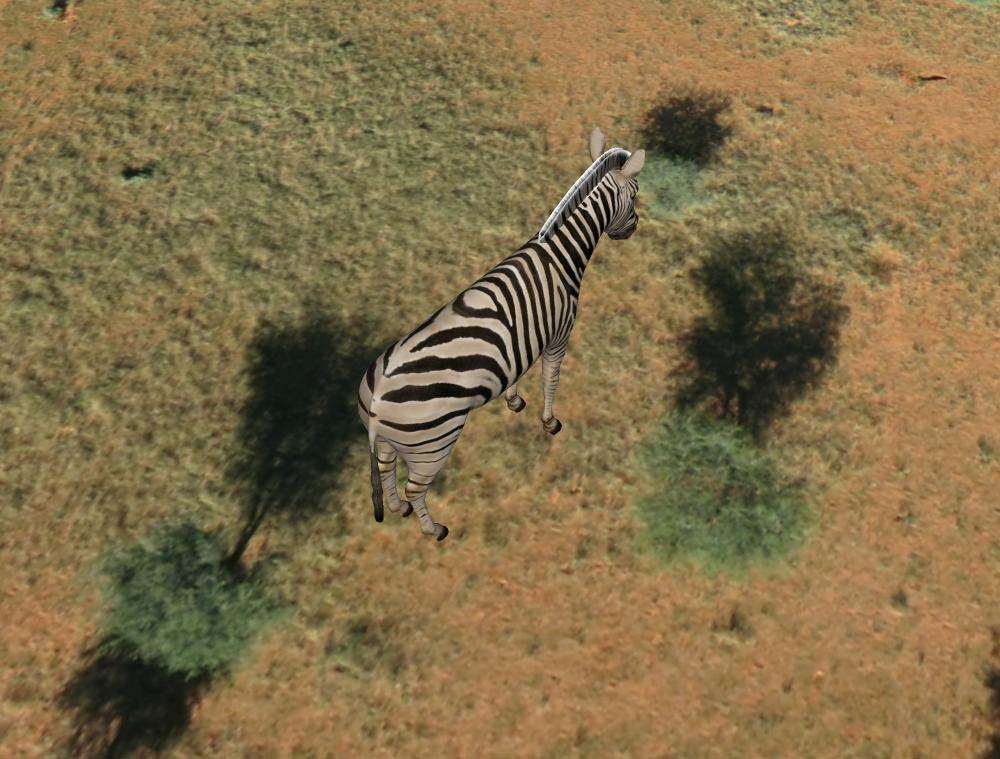zebra: (355, 121, 644, 548)
